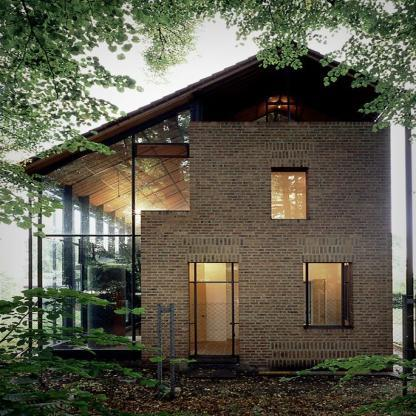Building Outline: (4, 37, 409, 372)
Door: (196, 282, 233, 355)
Facade: (5, 38, 409, 373)
Glass Wall: (42, 107, 191, 350)
Roof: (5, 38, 402, 173)
Window: (203, 62, 377, 122), (189, 262, 239, 355), (303, 263, 352, 327), (272, 168, 307, 219)
